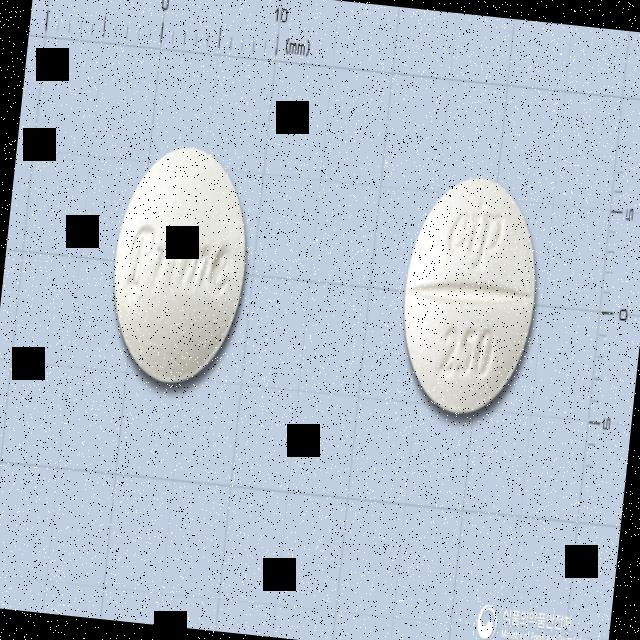Loxin: (103, 138, 258, 392), (392, 168, 548, 420)
